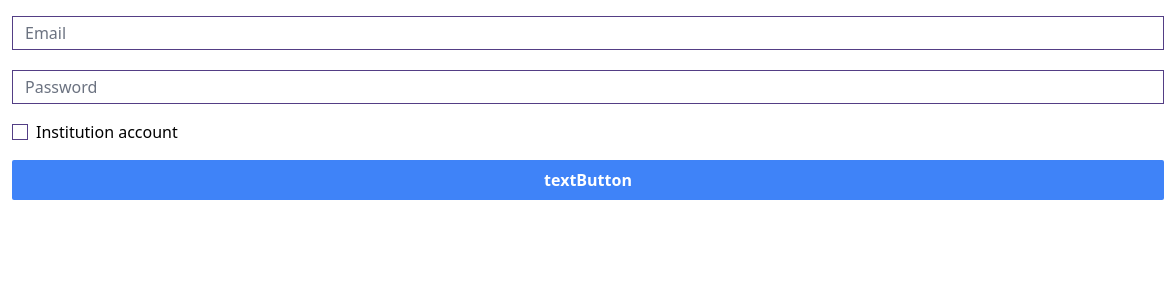
Test: testing loginOrSignupForm › should show a error message when inputs values are empty
Click the button "textButton": (588, 180) [12,160,1164,200]
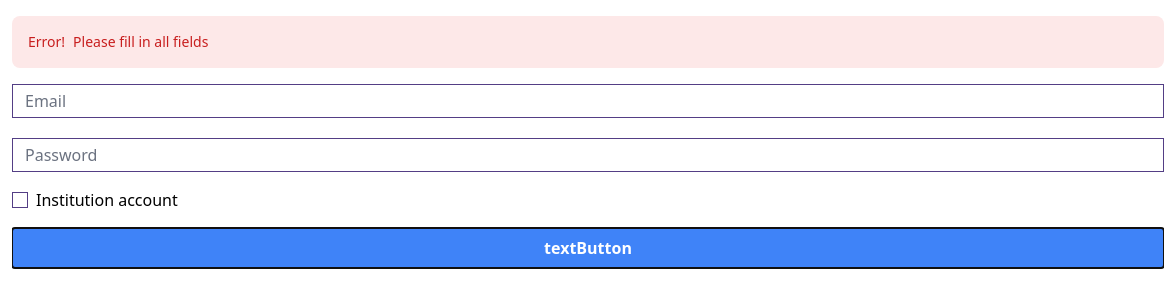
Result: the text "Error!" is shown at [28,32,65,51]
Result: the text "Please fill in all fields" is shown at [73,32,208,51]
In the field with placeholder "Email": (588, 101) [12,84,1164,118], type "test@gmail.c"
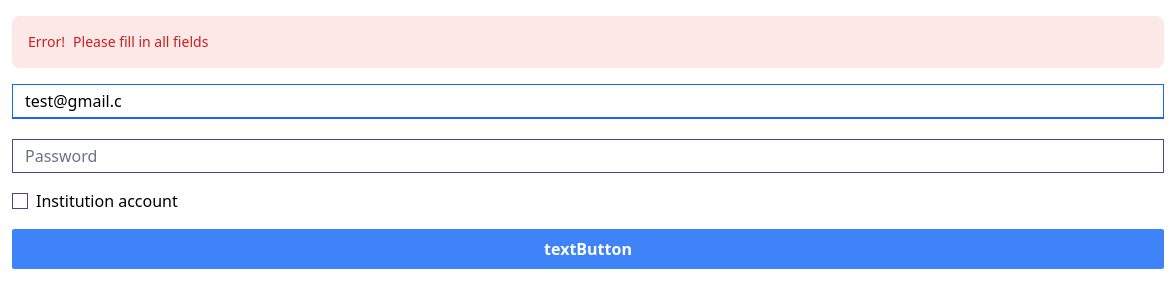
In the password field with placeholder "Password": (588, 156) [12,139,1164,173], type "123456"
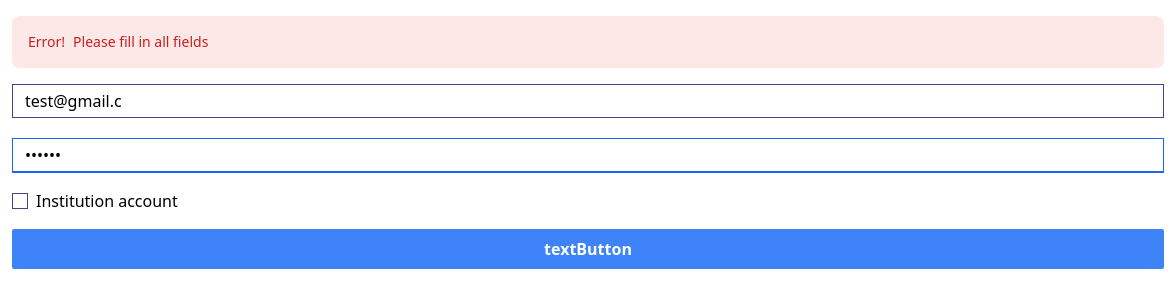
Click the button "textButton": (588, 249) [12,229,1164,269]
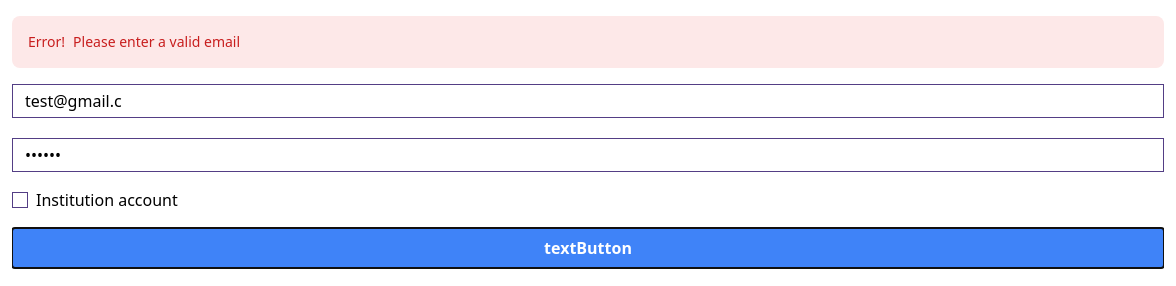
Result: the text "Please enter a valid email" is shown at [73,32,240,51]
